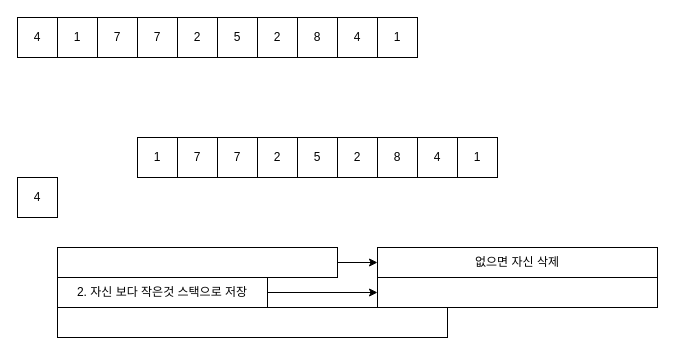
Image size: 675x363. Some labels were removed from this diagram. Here are the shapes that lost their labels. From the top down, the centre of each, then its label:
At point (197, 262): "1. 자신 보다 작은것이 나올 떄 까지 앞으로 가기".
At point (517, 292): "없으면 스택 삭제".
At point (252, 322): "3. 스택으로 저장한 다음 이후 부분에 자신 보다 큰 것이 나오면 삭제".
